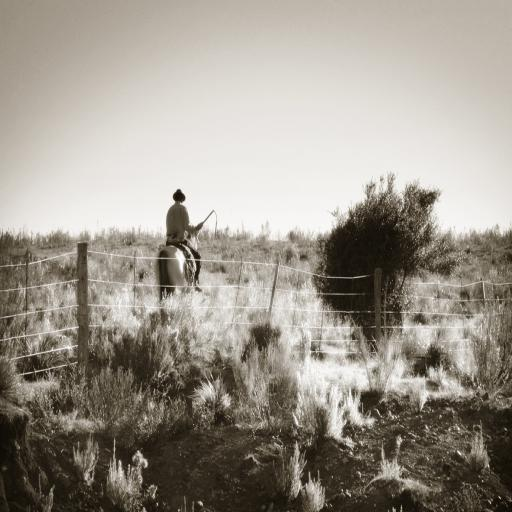Horse: (153, 231, 201, 307)
